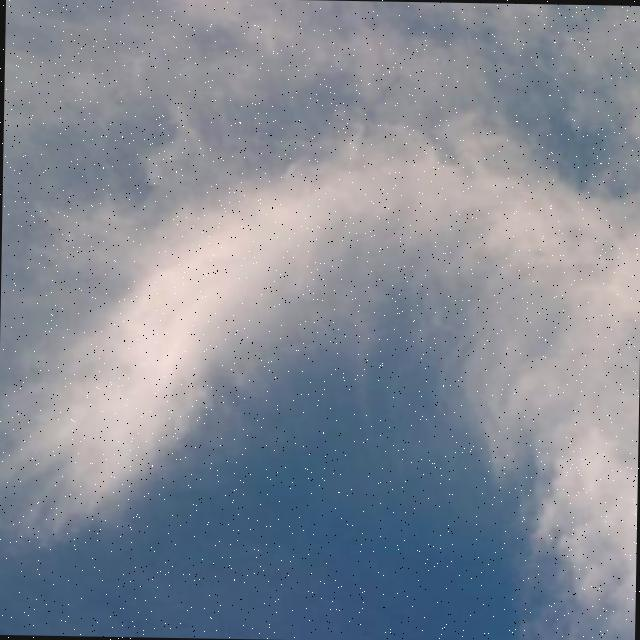Ci: (1, 4, 640, 626)
